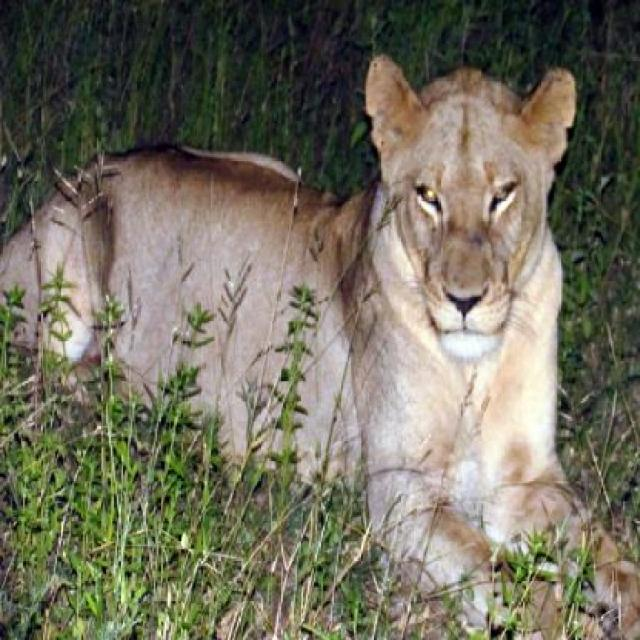Lion: (3, 37, 609, 638)
